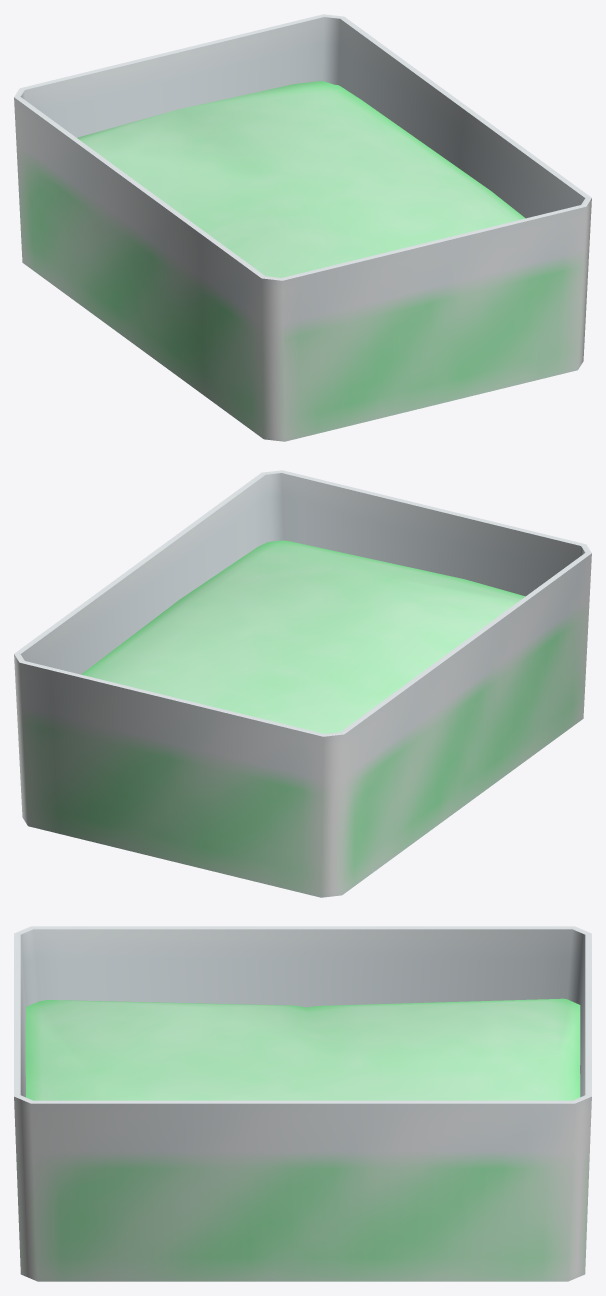
File: jsf_Ingredient_RawSugar_04.fbx
3 views of the same model, one above another, from view 1: azimuth 30°, elevation 25°; view 2: azimuth 150°, elevation 25°; view 3: azimuth 270°, elevation 25° (orthographic). The views are drawn at different scales.
Parts seen in each view (by area): view 1: jsf_Ingredient_RawSugar_04; view 2: jsf_Ingredient_RawSugar_04; view 3: jsf_Ingredient_RawSugar_04.
Part boxes in pixels (x1,y1,x2,y2): jsf_Ingredient_RawSugar_04: (14,14,591,441); jsf_Ingredient_RawSugar_04: (14,470,591,897); jsf_Ingredient_RawSugar_04: (14,926,591,1281).
Bounding box in the file's own units: 13.88 × 6.6 × 19.12.
